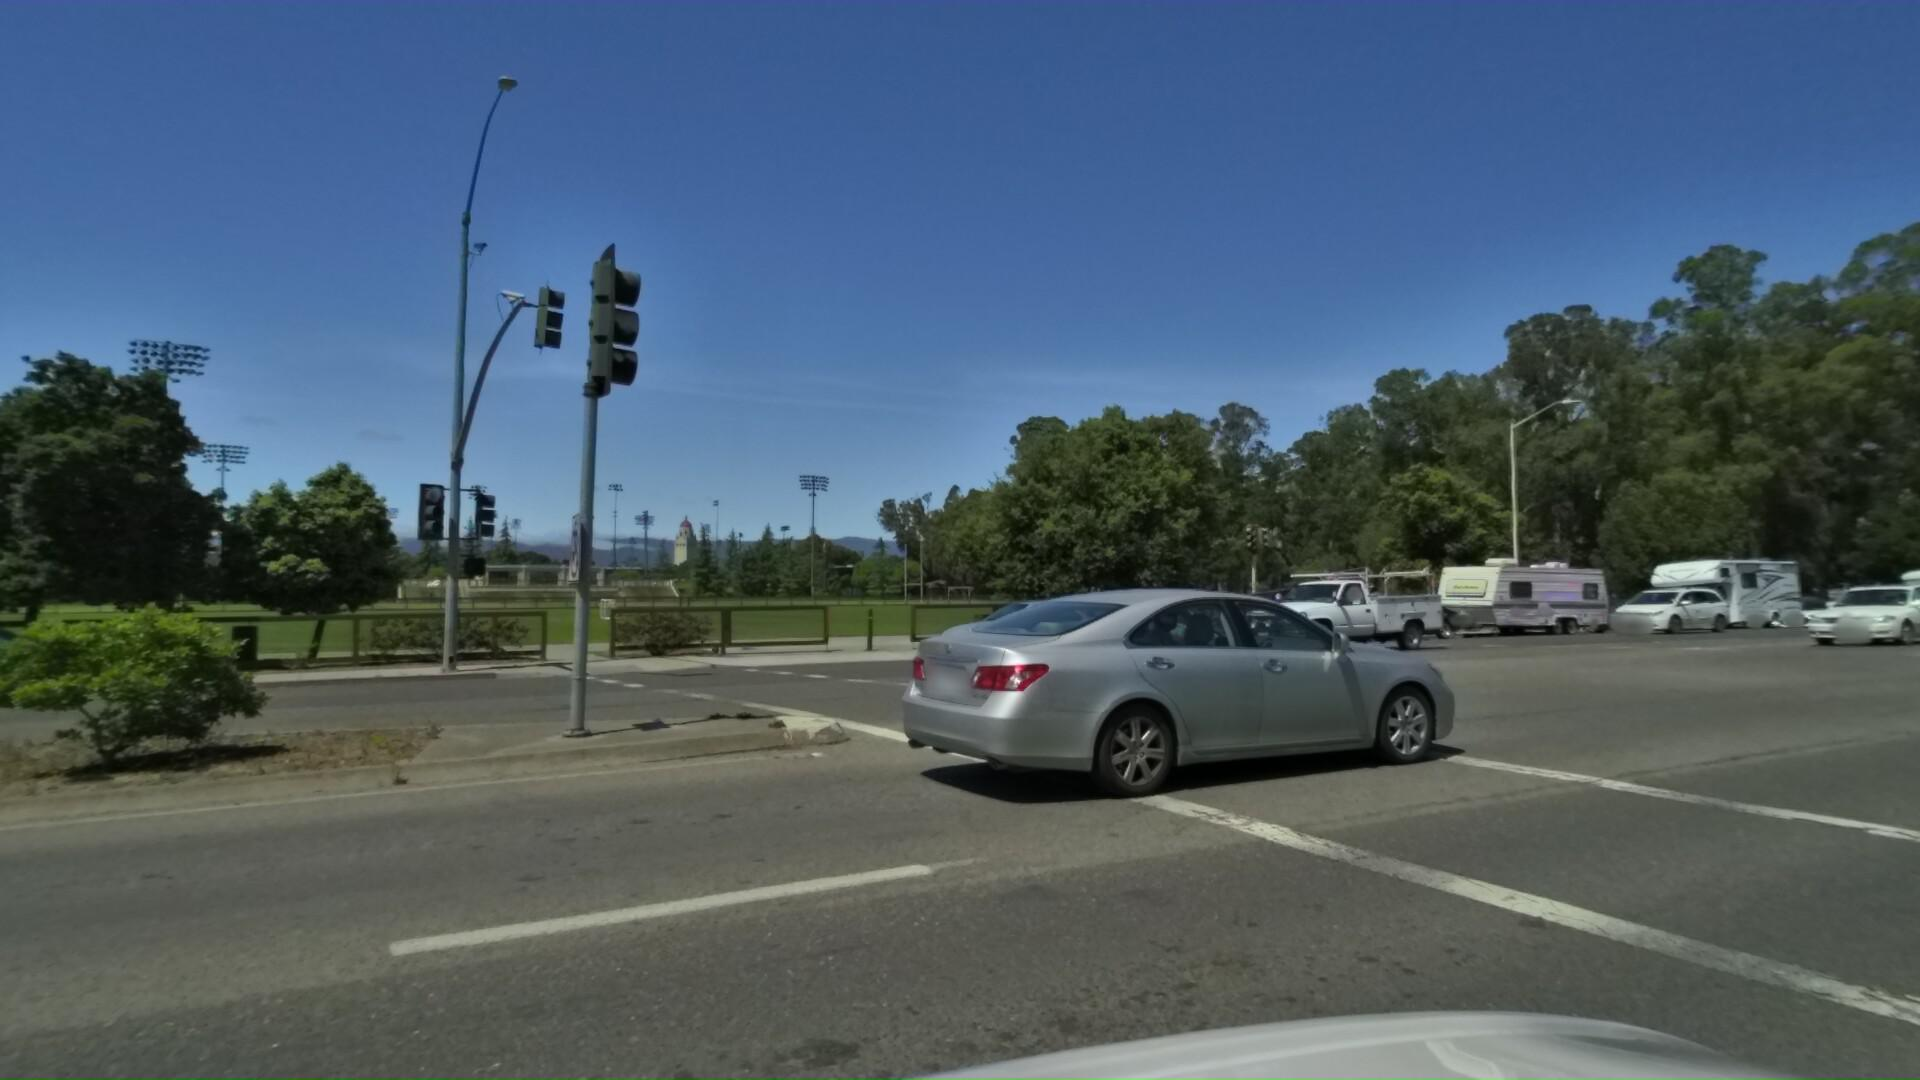car: (868, 583, 1497, 829), (1182, 558, 1408, 670), (880, 596, 1077, 665), (1770, 578, 1920, 651), (1168, 582, 1336, 647), (1578, 585, 1712, 638), (1313, 596, 1445, 644), (1755, 597, 1850, 632), (1894, 571, 1920, 622)
other_vehicle: (1396, 549, 1607, 640), (1615, 550, 1805, 634), (1870, 553, 1920, 626)
truck: (1909, 521, 1920, 640)
